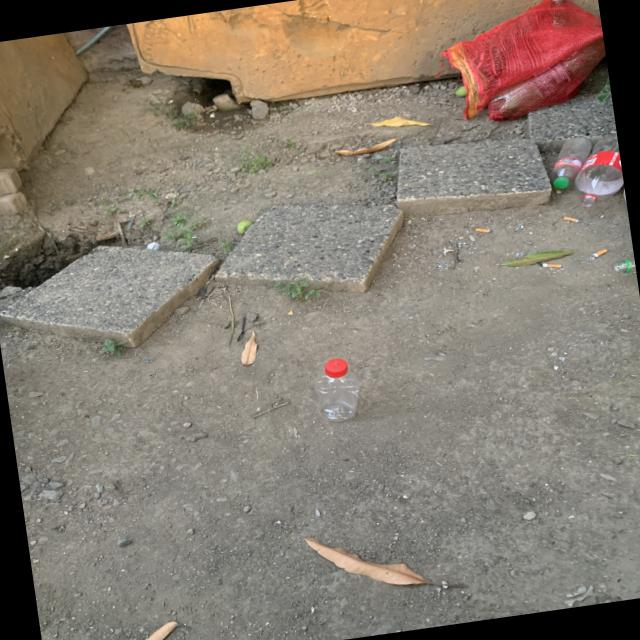Bottle: (315, 358, 360, 422)
